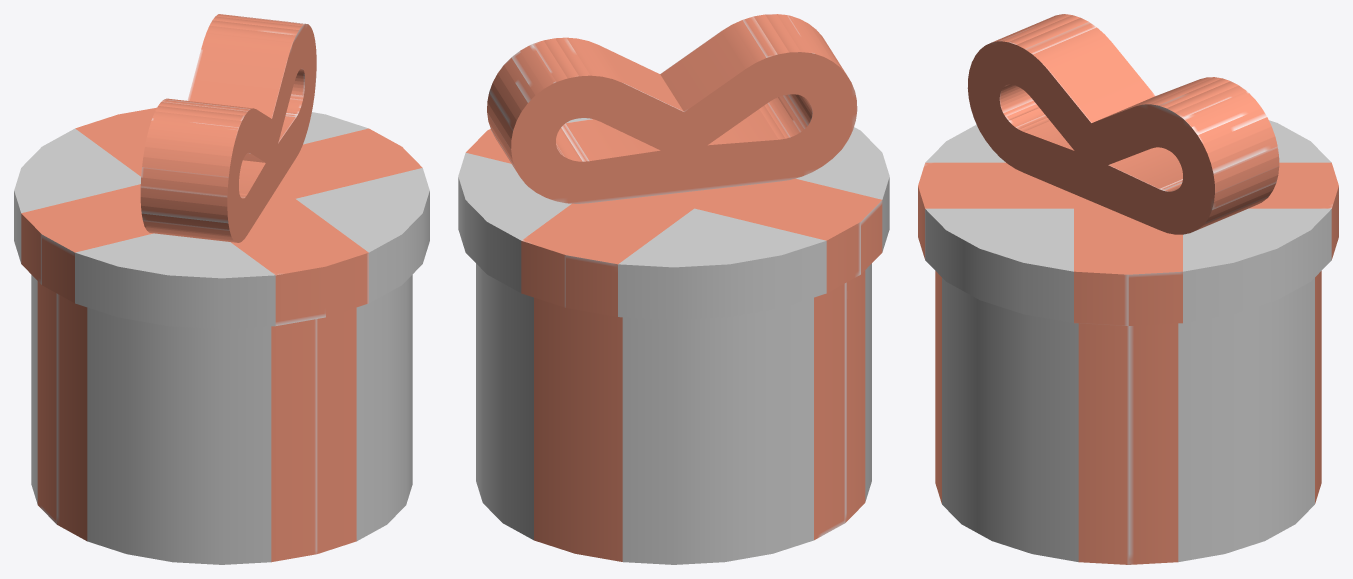
The model's file is presents.glb.
3 views of the same model, side by side, from view 1: azimuth 30°, elevation 25°; view 2: azimuth 150°, elevation 25°; view 3: azimuth 270°, elevation 25° (orthographic). The views are drawn at different scales.
Parts seen in each view (by area): view 1: presentRound; view 2: presentRound; view 3: presentRound.
Part boxes in pixels (<box>): presentRound: <box>14,14,429,564</box>; presentRound: <box>458,14,889,564</box>; presentRound: <box>918,14,1338,564</box>.
Bounding box in the file's own units: 0.361 × 0.3997 × 0.361.
Materials: 1 (1 with a texture image).
